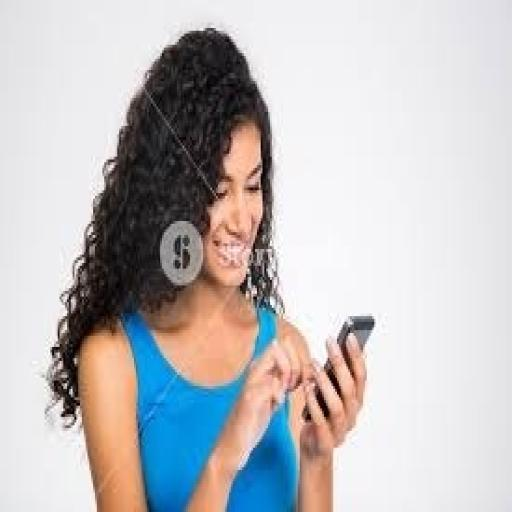texting: (42, 22, 368, 510)
